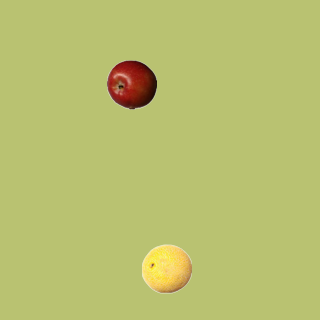Apple Braeburn: (106, 59, 156, 109)
Cantaloupe 1: (141, 243, 191, 293)
